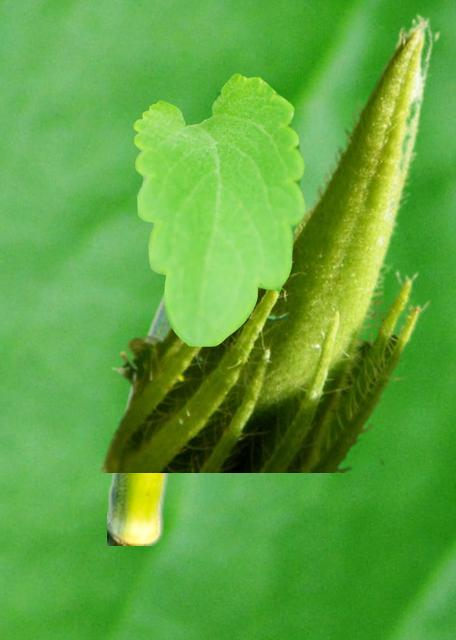okra: (96, 12, 440, 471), (107, 283, 172, 544)
